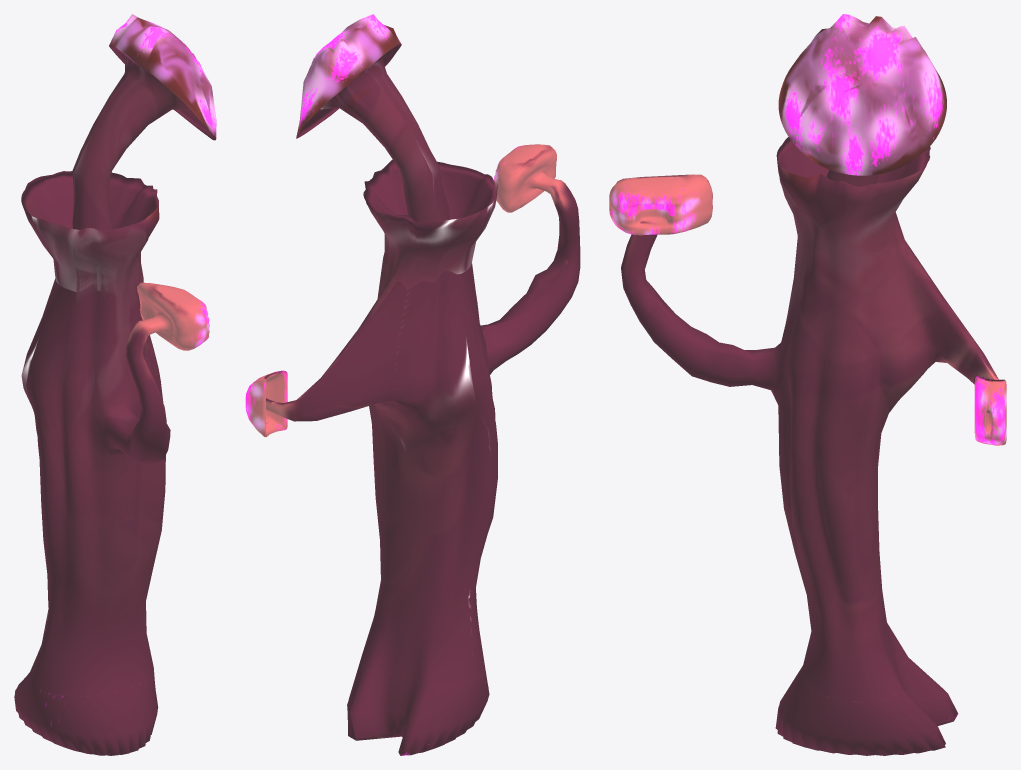
The model's file is plant_Creature5.fbx.
The picture shows the model from 3 angles, left to right: view 1: azimuth 30°, elevation 25°; view 2: azimuth 150°, elevation 25°; view 3: azimuth 270°, elevation 25°; orthographic projection. The views are drawn at different scales.
Visible parts, largest first — view 1: Cylinder; view 2: Cylinder; view 3: Cylinder.
Part boxes in pixels (box(x1,y1,x2,y2)): Cylinder: box(14, 14, 216, 755); Cylinder: box(245, 14, 580, 755); Cylinder: box(609, 14, 1006, 755).
Bounding box in the file's own units: 355 × 1352 × 639.
